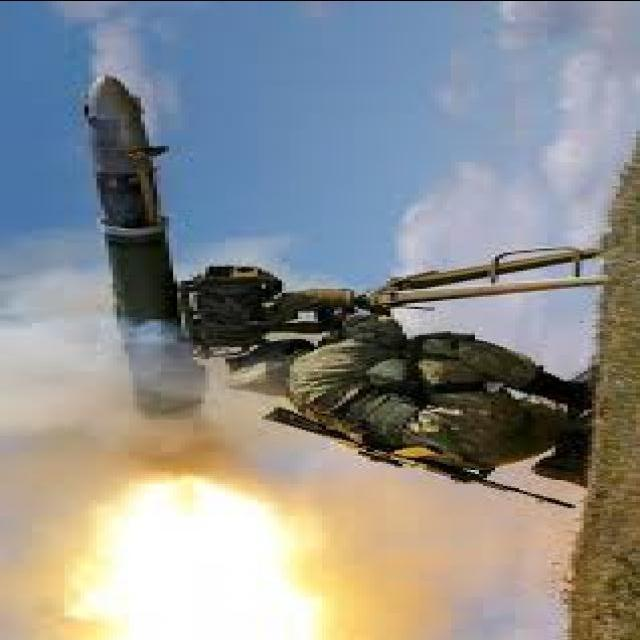Missile: (75, 72, 189, 411)
